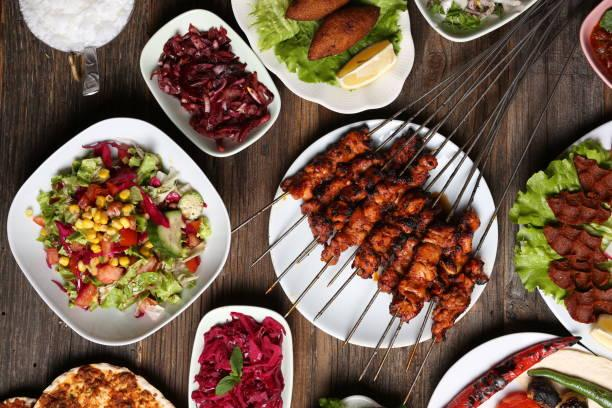Braised Crucian Carp: (269, 118, 497, 345), (6, 118, 229, 344), (232, 0, 415, 114), (137, 15, 280, 155), (530, 115, 612, 355), (188, 304, 295, 406)
